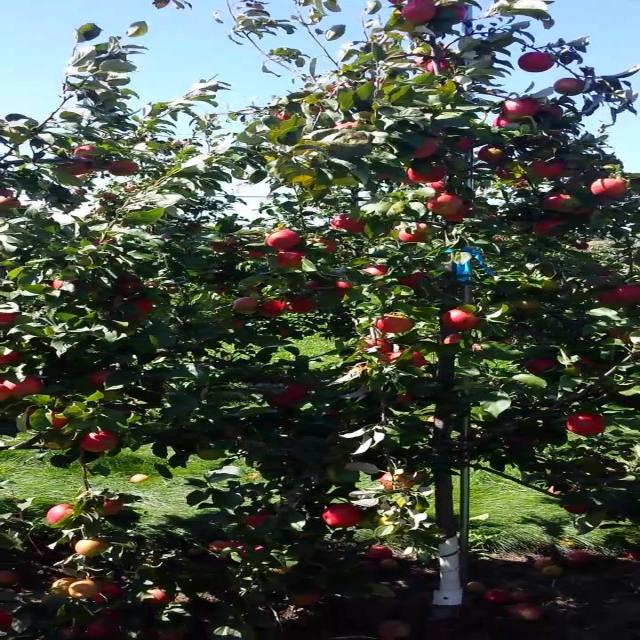apple: (319, 504, 364, 529), (440, 308, 482, 332), (84, 616, 123, 640), (84, 432, 121, 454), (568, 416, 606, 437), (6, 376, 44, 397), (518, 52, 555, 73), (589, 180, 629, 199), (376, 316, 414, 335), (426, 196, 464, 215), (77, 540, 114, 559), (291, 588, 325, 608), (532, 160, 569, 178), (504, 100, 540, 118), (333, 216, 368, 234), (269, 232, 302, 251), (383, 472, 414, 492), (92, 584, 123, 604), (42, 408, 71, 429), (404, 4, 436, 23), (70, 580, 100, 600), (412, 140, 441, 160), (412, 168, 448, 184), (106, 160, 142, 176), (326, 468, 359, 485), (532, 220, 567, 236), (291, 296, 320, 315), (440, 4, 469, 23), (554, 80, 588, 96), (476, 148, 508, 165), (49, 504, 76, 524), (440, 208, 476, 223), (234, 296, 261, 315), (276, 252, 308, 268), (362, 340, 396, 355), (525, 360, 558, 375), (205, 540, 242, 553), (397, 272, 427, 288), (49, 580, 75, 598), (148, 588, 174, 606), (447, 208, 478, 223), (99, 500, 126, 517), (241, 544, 268, 561), (99, 612, 121, 632), (419, 60, 450, 74), (284, 384, 311, 400), (611, 328, 638, 344), (596, 292, 624, 307), (120, 276, 142, 295), (618, 284, 638, 304), (248, 512, 272, 528), (547, 196, 571, 212), (312, 240, 341, 253), (262, 300, 284, 317), (92, 372, 114, 389), (212, 240, 240, 253), (198, 448, 226, 461), (397, 232, 427, 244), (362, 264, 391, 276), (63, 164, 92, 176), (511, 300, 540, 312), (70, 148, 98, 160), (269, 396, 297, 408), (376, 352, 404, 364), (134, 300, 156, 315), (42, 440, 68, 452), (276, 392, 295, 408), (333, 284, 356, 297), (504, 436, 537, 445), (497, 116, 519, 128), (568, 504, 590, 516), (404, 472, 428, 483), (227, 424, 245, 438), (1, 612, 14, 631), (440, 336, 462, 347), (56, 280, 78, 291), (248, 248, 270, 259), (540, 108, 564, 118), (412, 352, 427, 368), (497, 168, 516, 180), (6, 572, 23, 585), (426, 184, 448, 194), (92, 240, 119, 248), (6, 192, 20, 207), (56, 280, 76, 290), (575, 208, 597, 217), (582, 356, 596, 370), (397, 24, 420, 32), (6, 352, 21, 364), (56, 416, 71, 428), (6, 312, 20, 324), (461, 140, 476, 151), (397, 396, 416, 404), (248, 252, 268, 259), (6, 200, 21, 209), (278, 328, 293, 337), (419, 224, 432, 234), (276, 112, 292, 120), (305, 284, 322, 291), (575, 244, 590, 251), (234, 320, 245, 328)
